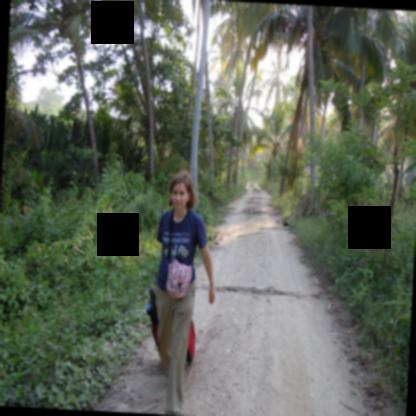handbag: (166, 210, 191, 298)
suitcase: (151, 319, 196, 364)
